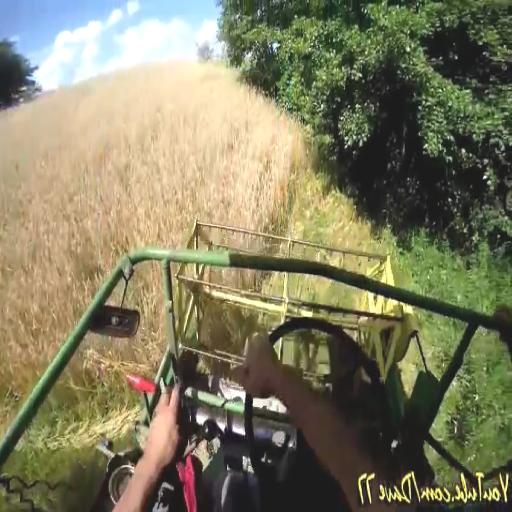bugday: (1, 61, 371, 395)
